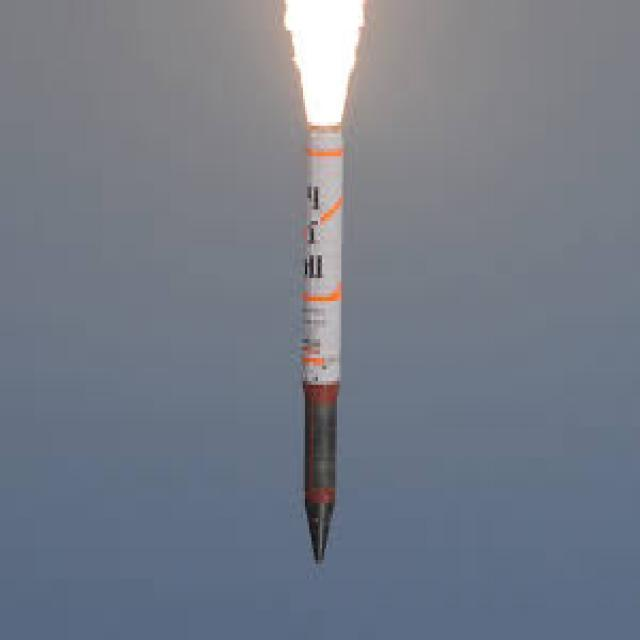Missile: (297, 114, 351, 586)
